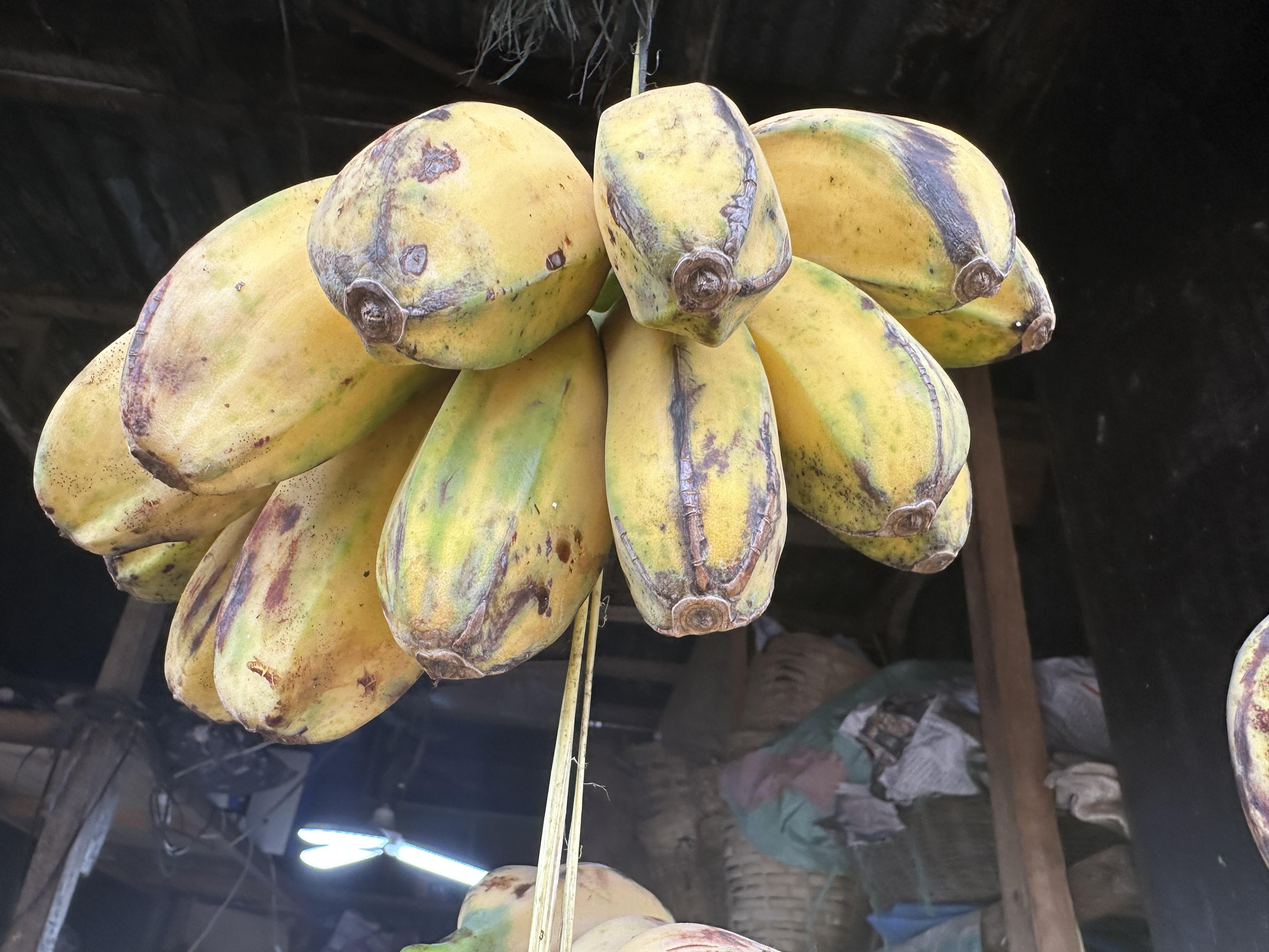underripe: (35, 82, 1058, 748)
